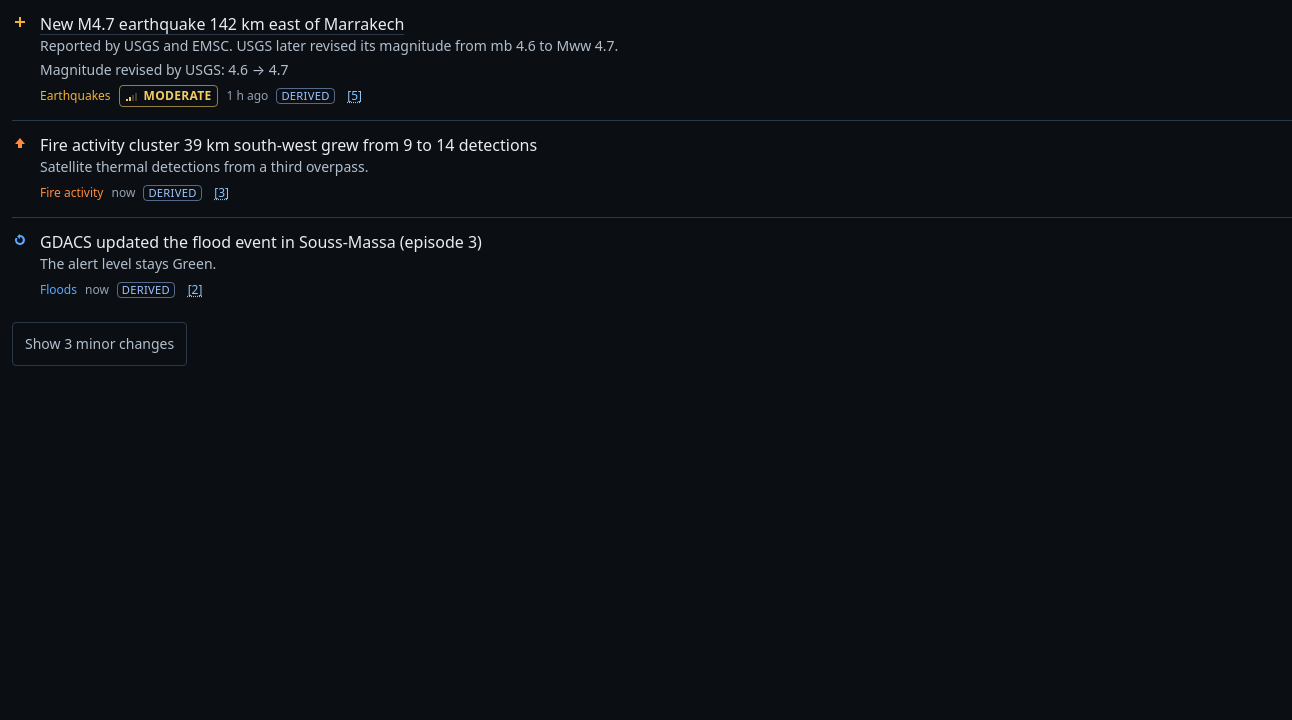
Test: WhatChanged › lists headline then listed changes, and keeps suppressed ones behind a toggle
The width and height of the screenshot is (1292, 720).
Expected: the text "New M2.8 earthquake 118 km south" is not shown
Click the button "Show 3 minor changes" at (100, 344), box [12, 322, 187, 366]
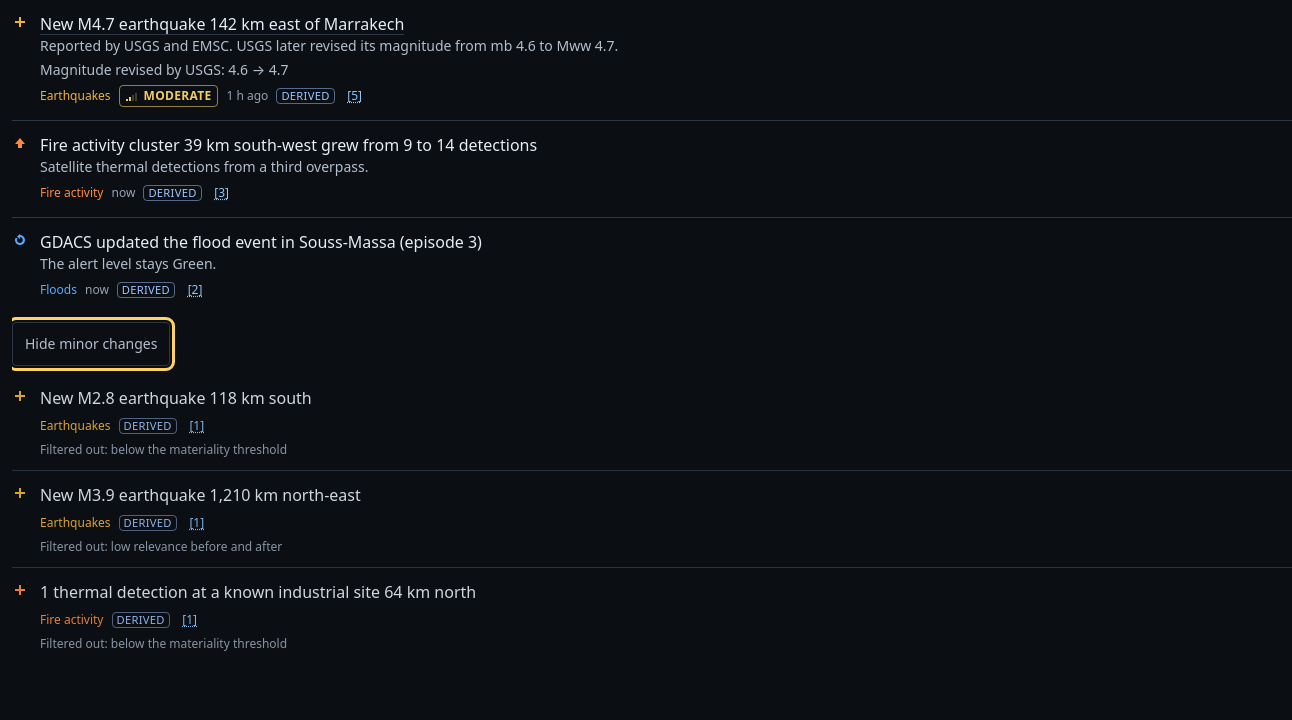
Now the text "New M2.8 earthquake 118 km south" is shown, box [39, 386, 312, 409]
Now the button "Hide minor changes" is shown, box [12, 322, 170, 366]
